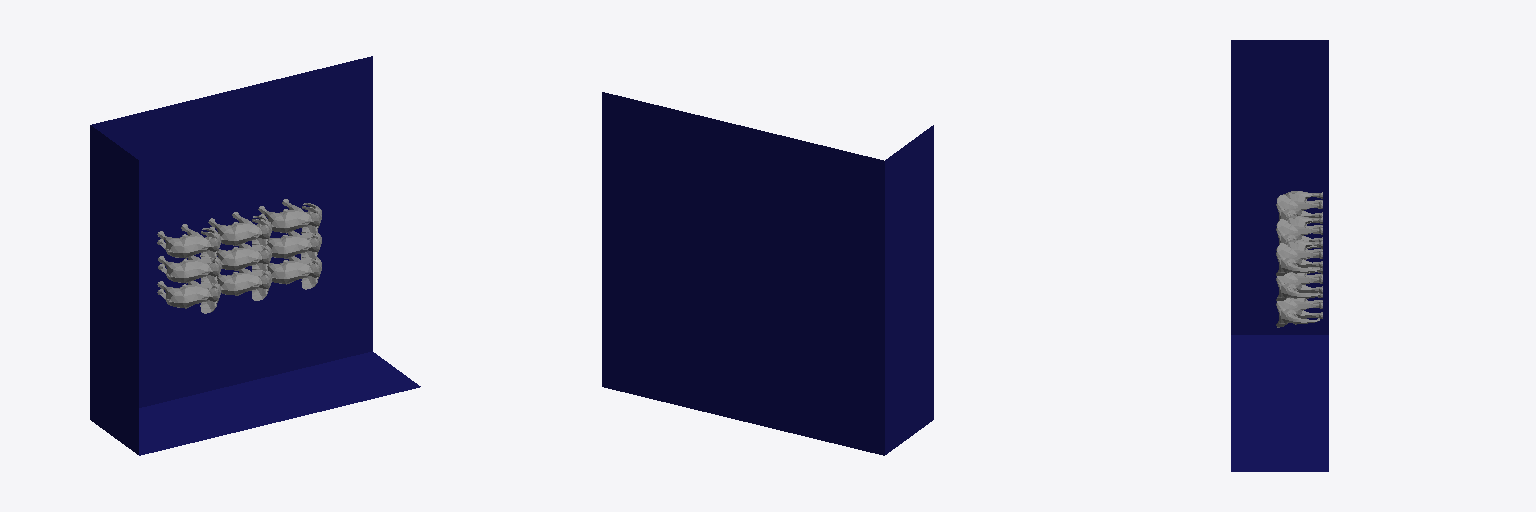
File: elefantesChicosDistNoUniformeSOLAP.obj
3 renders of one model, left to right at view 1: azimuth 30°, elevation 25°; view 2: azimuth 150°, elevation 25°; view 3: azimuth 270°, elevation 25°, orthographic.
Visible parts, largest first — view 1: Box01, default01, default08, default04, default, default02, default05, default06, default07, default03; view 2: Box01; view 3: Box01, default08, default06, default07, default01, default04.
Boxes of the visible parts, <box> form: Box01: <box>90,56,420,455</box>; default01: <box>157,224,220,263</box>; default08: <box>258,199,321,238</box>; default04: <box>208,212,271,251</box>; default: <box>157,281,220,313</box>; default02: <box>158,255,221,288</box>; default05: <box>217,268,271,300</box>; default06: <box>268,256,321,289</box>; default07: <box>267,231,321,263</box>; default03: <box>217,243,271,275</box>; Box01: <box>602,92,933,455</box>; Box01: <box>1231,40,1328,471</box>; default08: <box>1276,239,1322,275</box>; default06: <box>1276,293,1322,327</box>; default07: <box>1276,267,1322,300</box>; default01: <box>1276,191,1322,225</box>; default04: <box>1276,216,1322,250</box>.
Bounding box in the file's own units: 100 × 100 × 30.